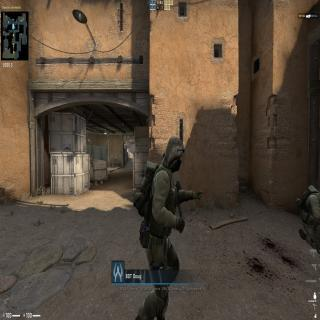CT-Head: (161, 132, 185, 176)
